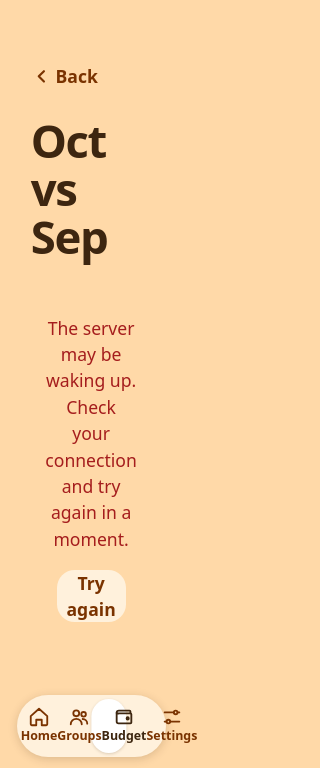
Test: the monthly summary screen › loading and failing › asks again and shows the cards when Try again is pressed
Step 1. Click the button "Try again" → [91, 596], box [56,569,127,624]
(page scrolled)
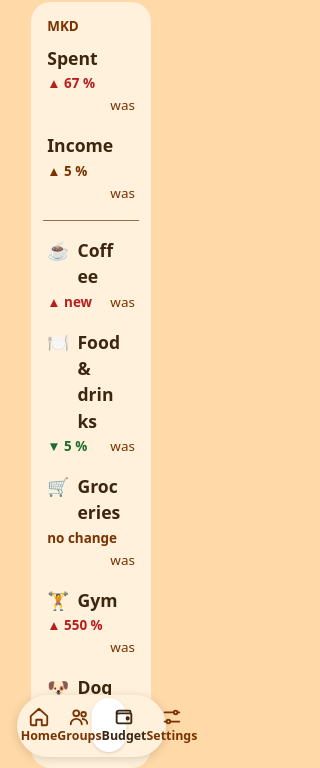
Expected: the element "MKD" is shown, [31,2,151,767]
Expected: the message is gone
